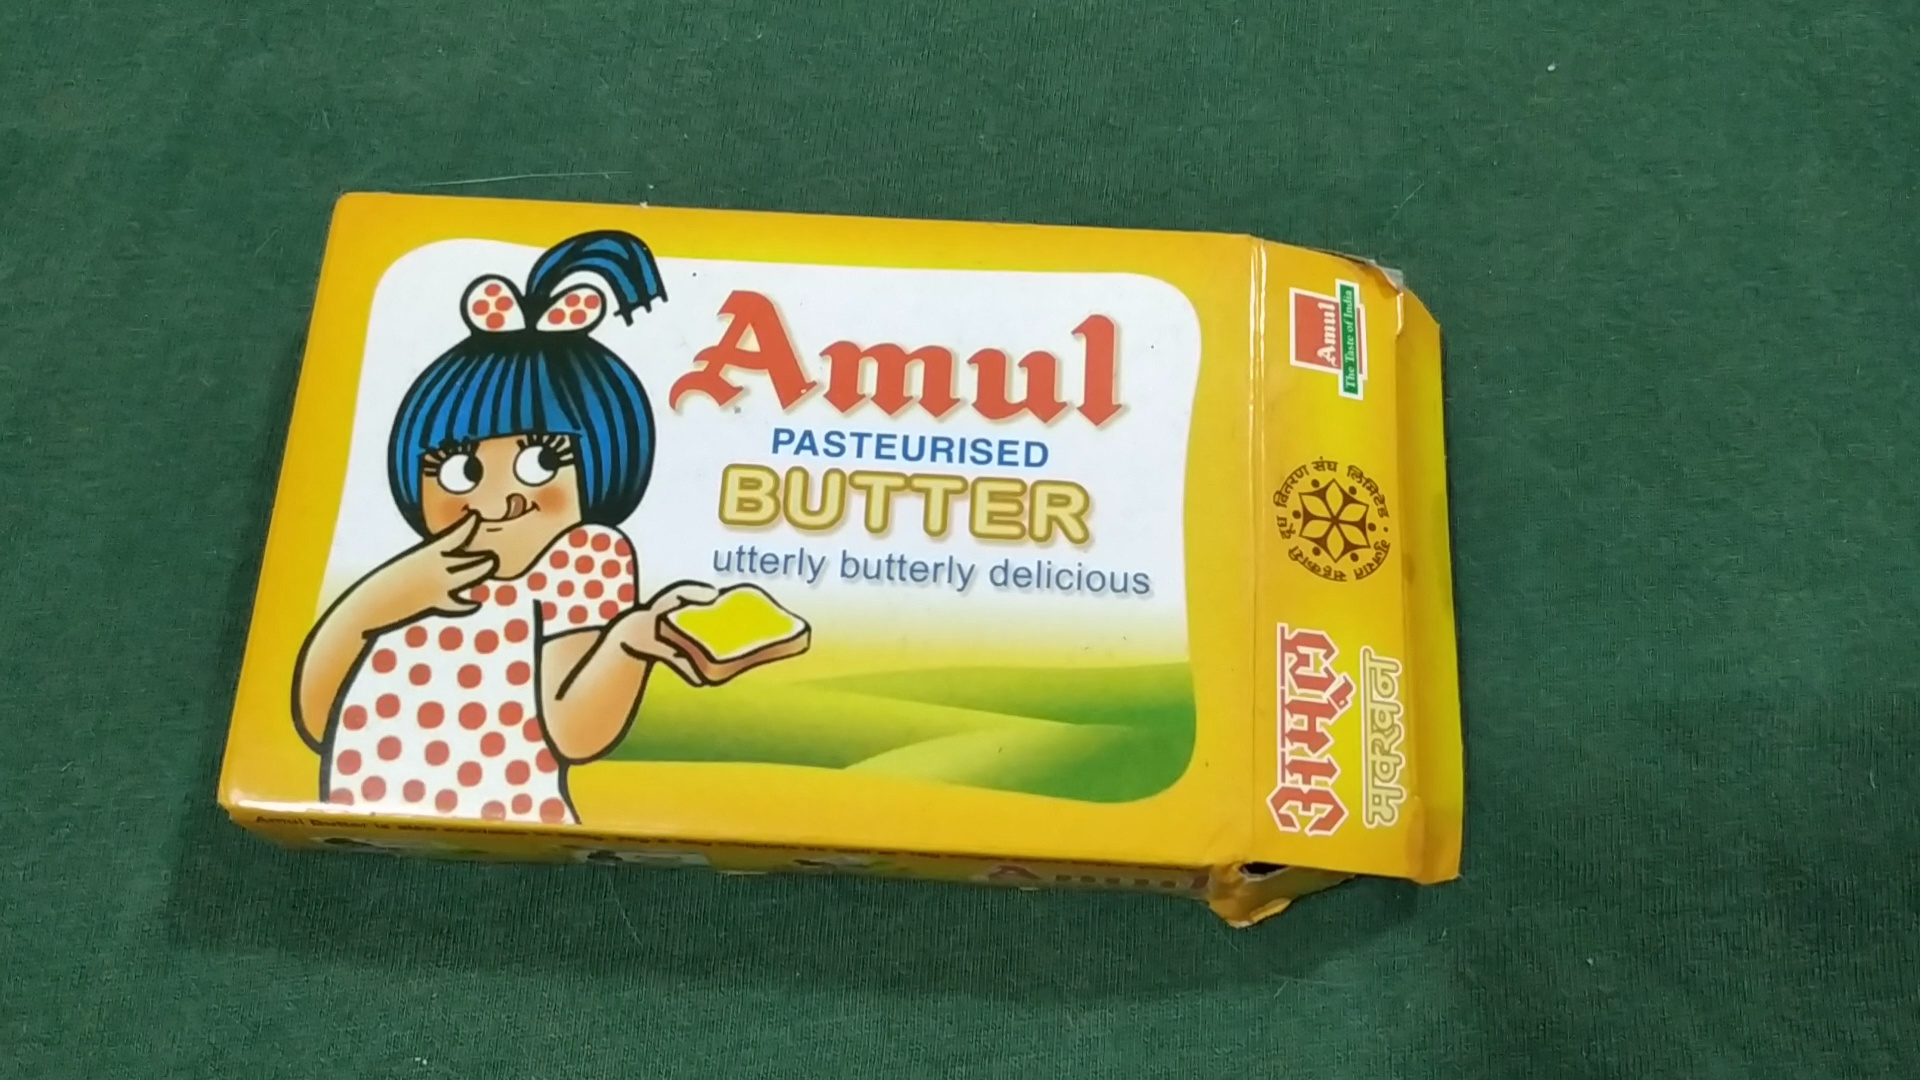amul_butter: (218, 190, 1465, 914)
